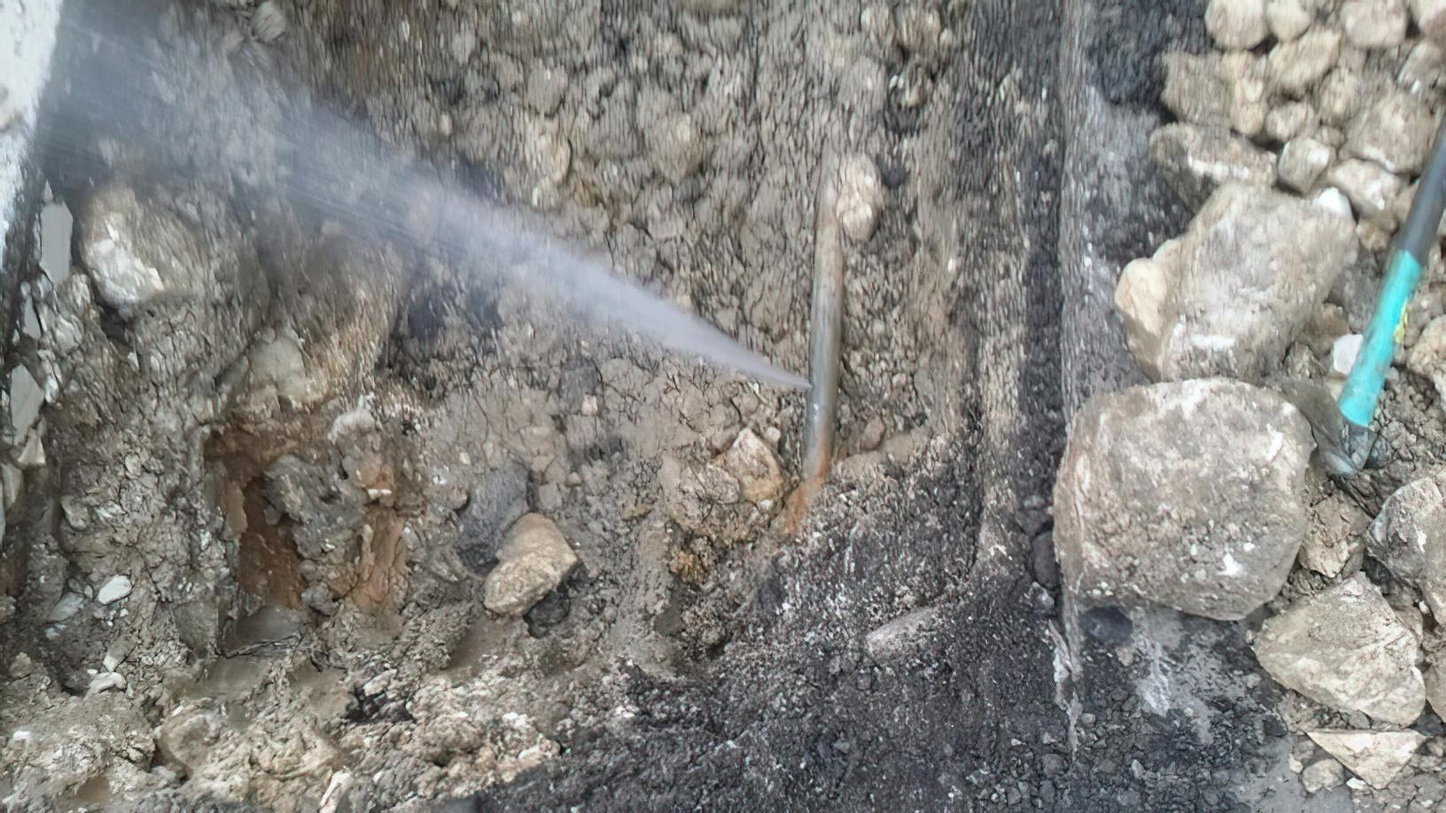pipe burst: (6, 1, 822, 396)
